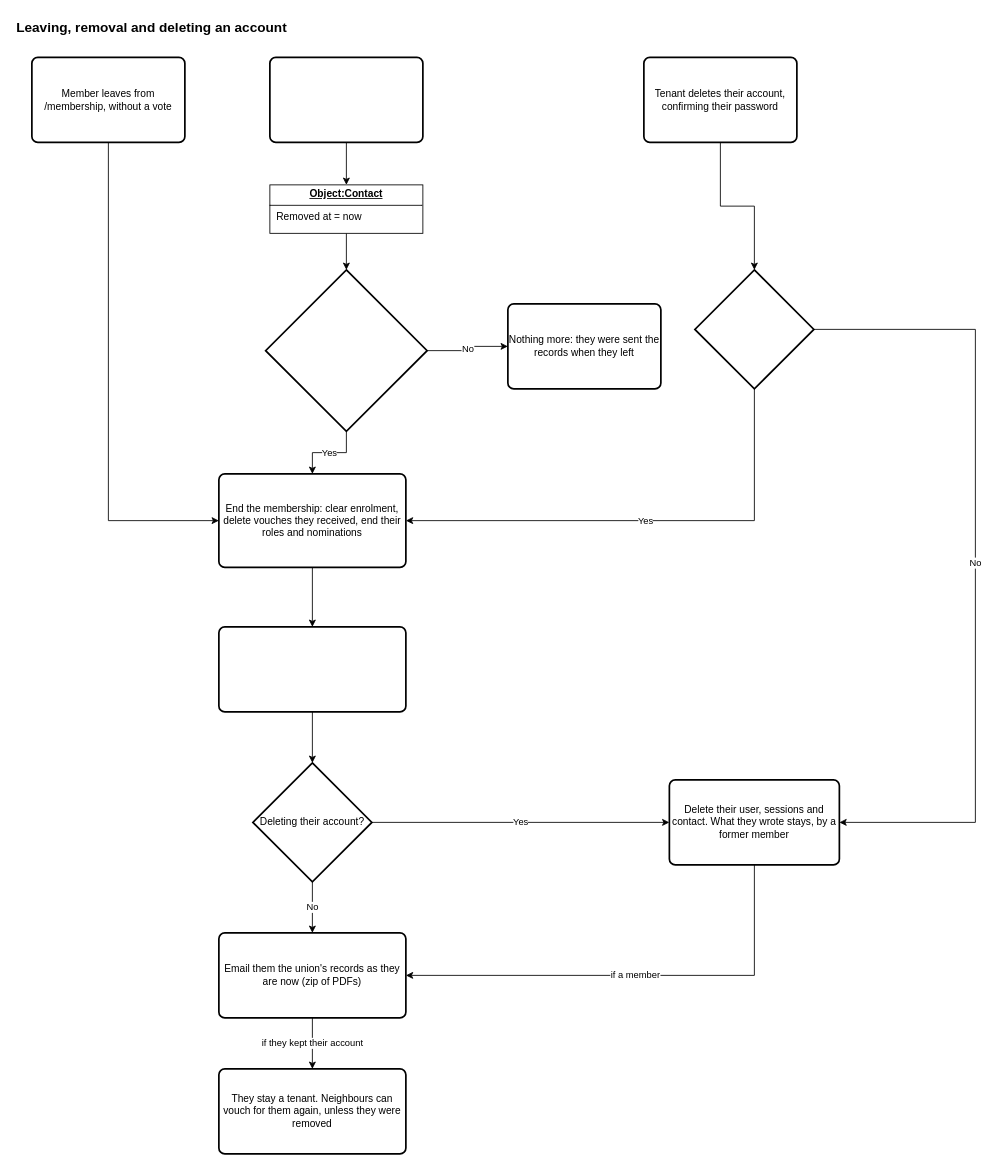
Image size: 997x1169. Some labels were removed from this diagram. Each missing label, with the centre of its shape:
"Drop their undecided mail approvals; reject mail that can no longer pass" belongs at pixel 312 669.
"Referendum to remove a member passes" belongs at pixel 346 99.
"Still a member? (they may have left while it was voted on)" belongs at pixel 346 350.
"Were they a member?" belongs at pixel 754 329.
